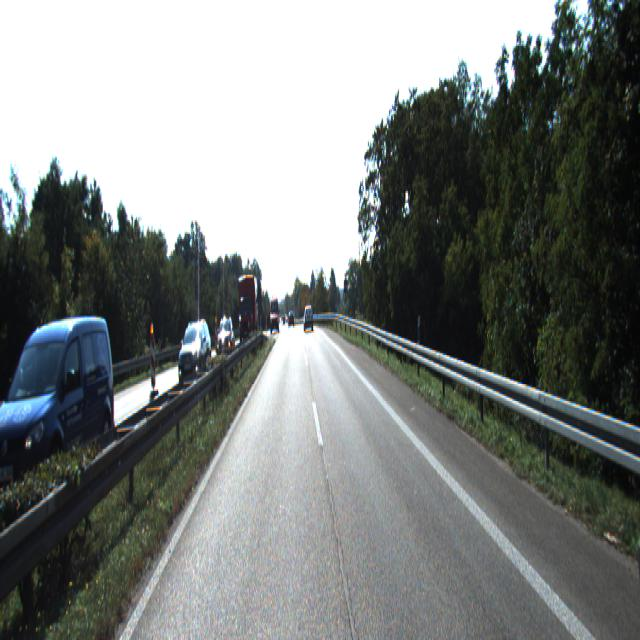Car: (0, 312, 121, 502), (177, 322, 213, 392), (236, 273, 258, 347), (216, 314, 236, 362), (304, 308, 313, 332)
